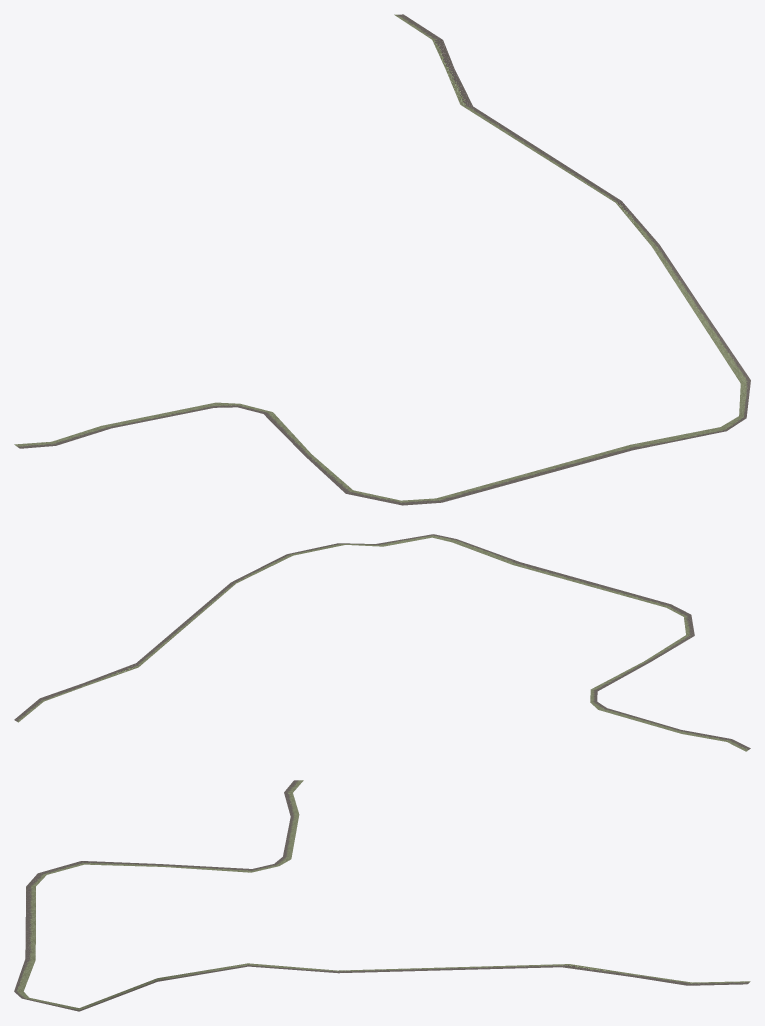
File: kd_stage_135c43_4_148_bounded_piece_0.glb
3 views of the same model, one above another, from view 1: azimuth 30°, elevation 25°; view 2: azimuth 150°, elevation 25°; view 3: azimuth 270°, elevation 25° (orthographic). The views are drawn at different scales.
Parts seen in each view (by area): view 1: kd_stage_135c43_4_148_bounded_piece_0; view 2: kd_stage_135c43_4_148_bounded_piece_0; view 3: kd_stage_135c43_4_148_bounded_piece_0.
Part boxes in pixels (x1=…): kd_stage_135c43_4_148_bounded_piece_0: x1=14, y1=14, x2=750, y2=505; kd_stage_135c43_4_148_bounded_piece_0: x1=14, y1=534, x2=750, y2=751; kd_stage_135c43_4_148_bounded_piece_0: x1=14, y1=780, x2=750, y2=1011.
Size of the model in its own units: 4.3 by 0.4681 by 5.
Materials: 1 (1 with a texture image).
